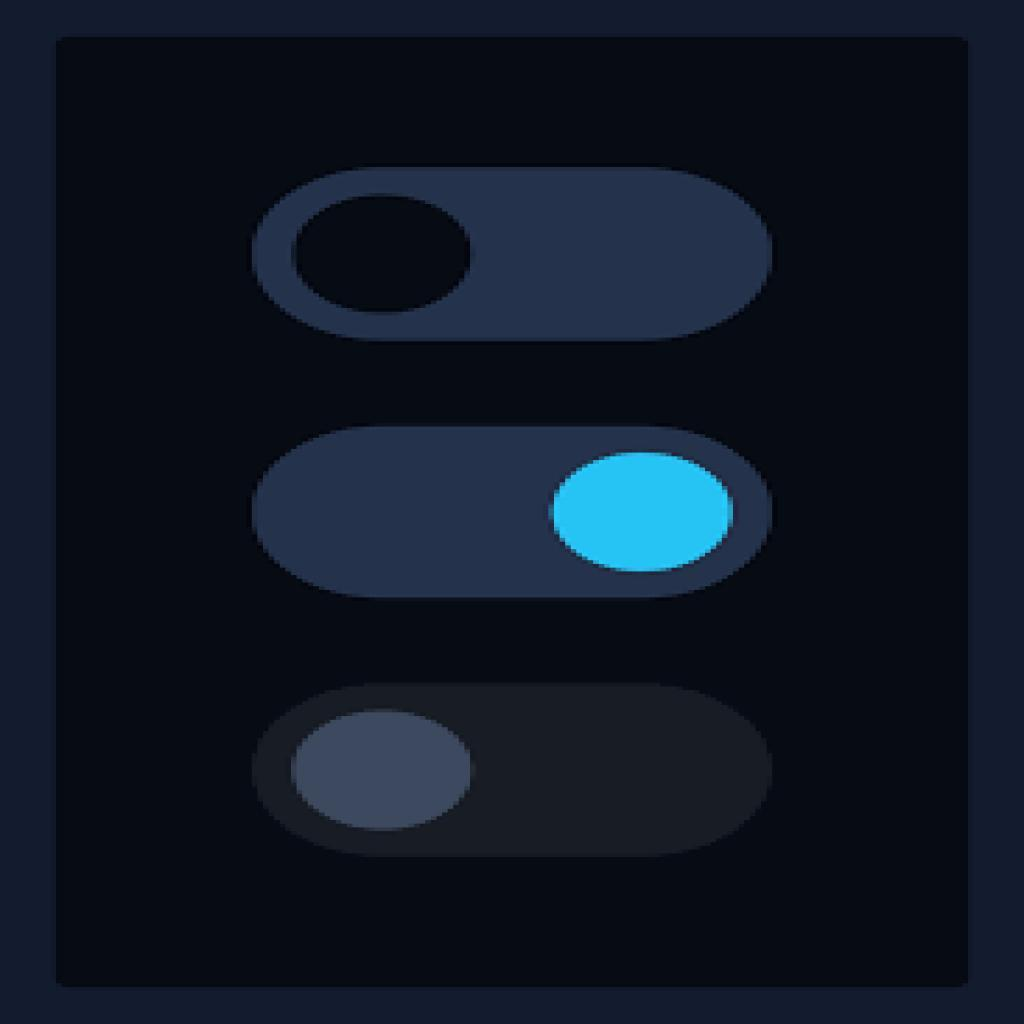switch: (256, 681, 776, 864), (254, 167, 772, 345), (250, 427, 778, 601)
